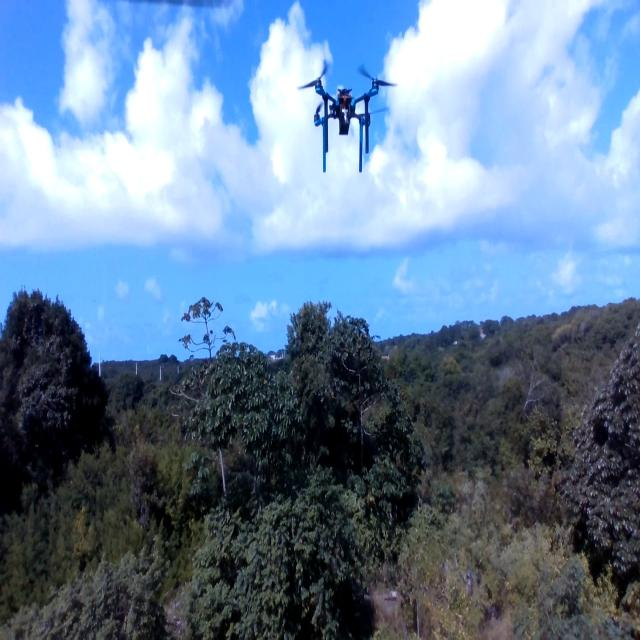-uav-: (286, 58, 408, 197)
